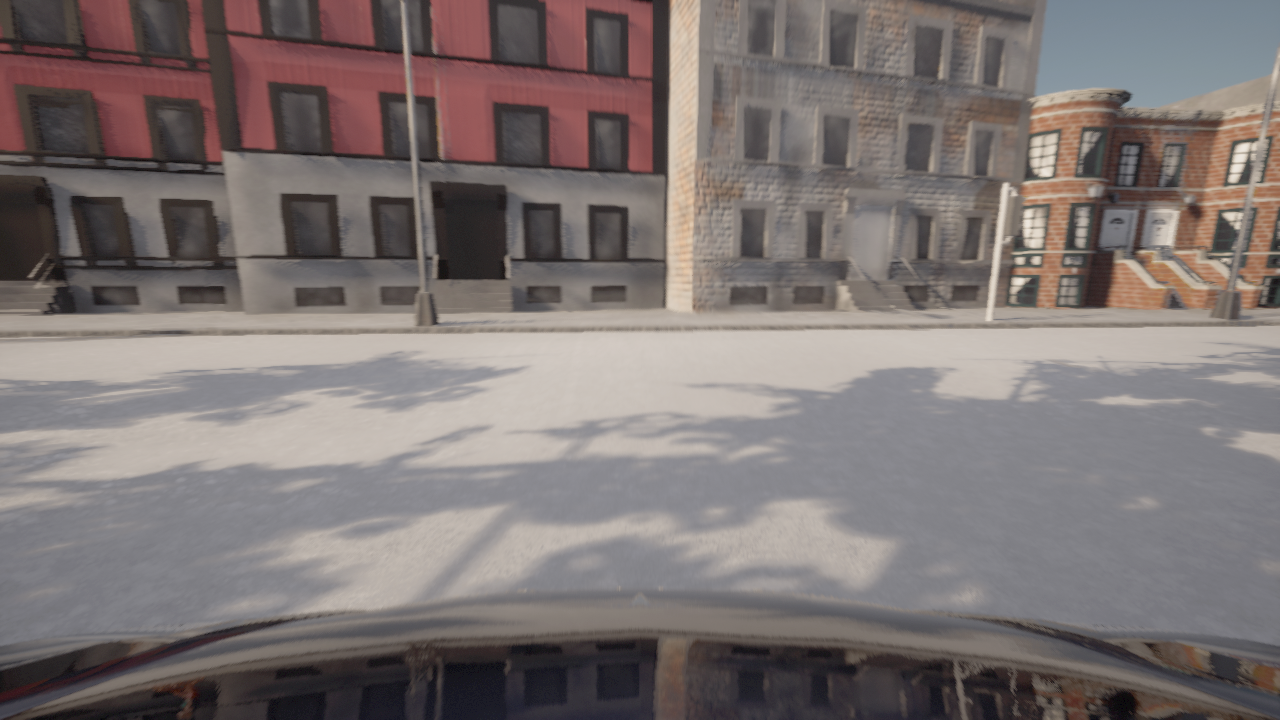cyclist: (0, 588, 1279, 719)
